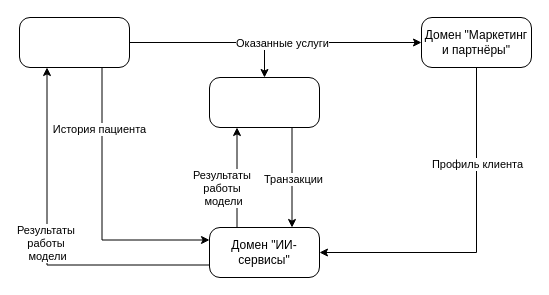
The diagram is 549 pixels wide and 295 high, and some of its shapes have lost their labels. Each missing label, with the centre of its shape:
Домен "Клиника": pixel 74 42
Домен "Финансы": pixel 264 102
